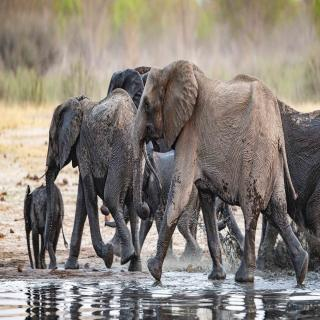Elephant: (130, 61, 308, 290), (37, 87, 151, 276)
